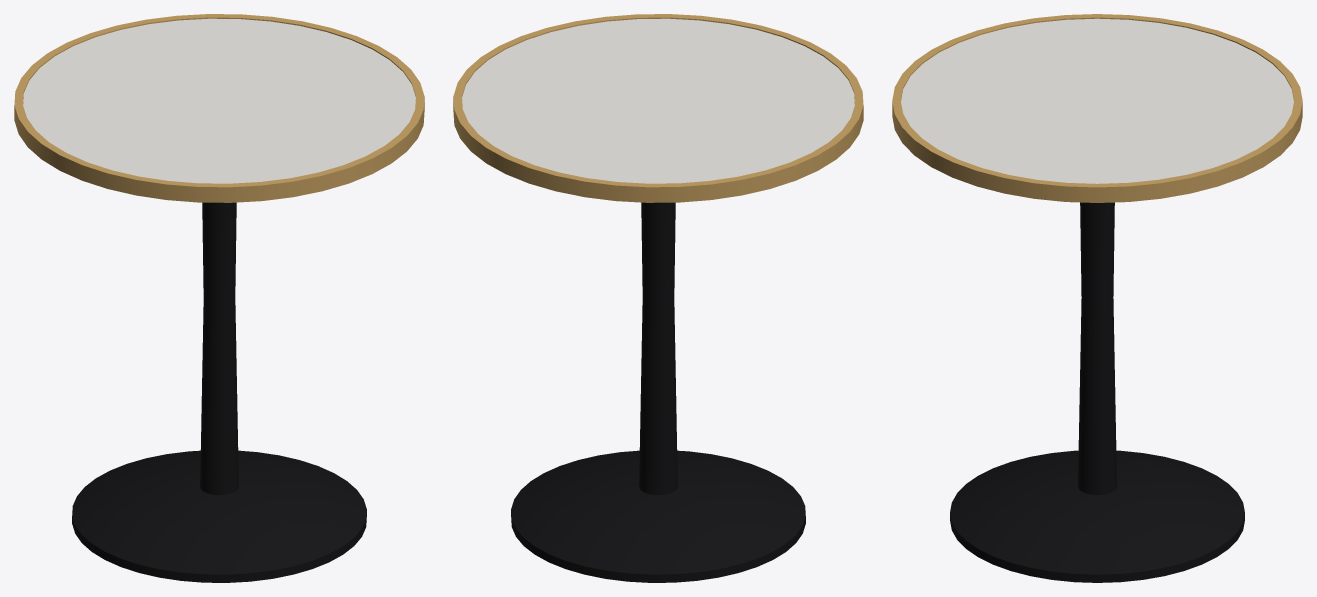
File: bistro_table.glb
3 renders of one model, left to right at view 1: azimuth 30°, elevation 25°; view 2: azimuth 150°, elevation 25°; view 3: azimuth 270°, elevation 25°, orthographic.
Parts seen in each view (by area): view 1: Top_LOD0, Foot_LOD0, Edge_LOD0, Column_LOD0; view 2: Top_LOD0, Foot_LOD0, Edge_LOD0, Column_LOD0; view 3: Top_LOD0, Foot_LOD0, Edge_LOD0, Column_LOD0.
Part boxes in pixels (x1,y1,x2,y2): Top_LOD0: [23, 18, 415, 183]; Foot_LOD0: [72, 450, 366, 582]; Edge_LOD0: [14, 14, 424, 202]; Column_LOD0: [200, 202, 238, 494]; Top_LOD0: [462, 18, 854, 183]; Foot_LOD0: [511, 450, 805, 582]; Edge_LOD0: [453, 14, 863, 202]; Column_LOD0: [639, 202, 677, 494]; Top_LOD0: [901, 18, 1293, 183]; Foot_LOD0: [950, 450, 1244, 582]; Edge_LOD0: [892, 14, 1302, 202]; Column_LOD0: [1078, 202, 1116, 494].
Bounding box in the file's own units: 0.668 × 0.754 × 0.668.
